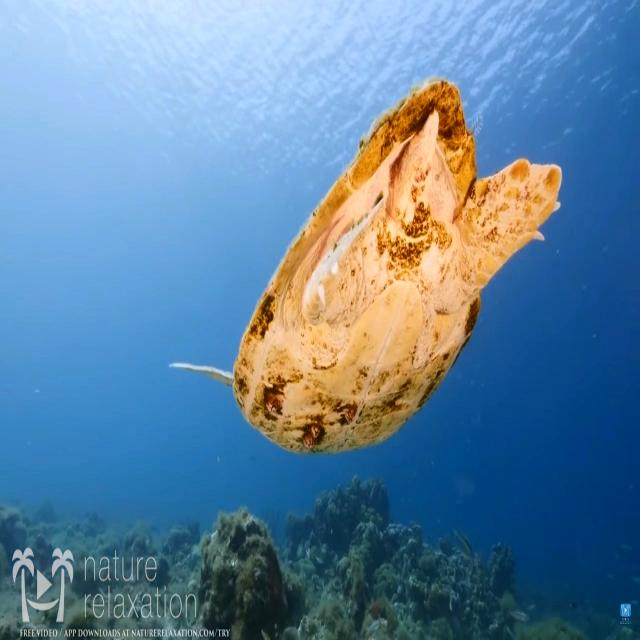Sea turtle: (168, 80, 562, 460)
